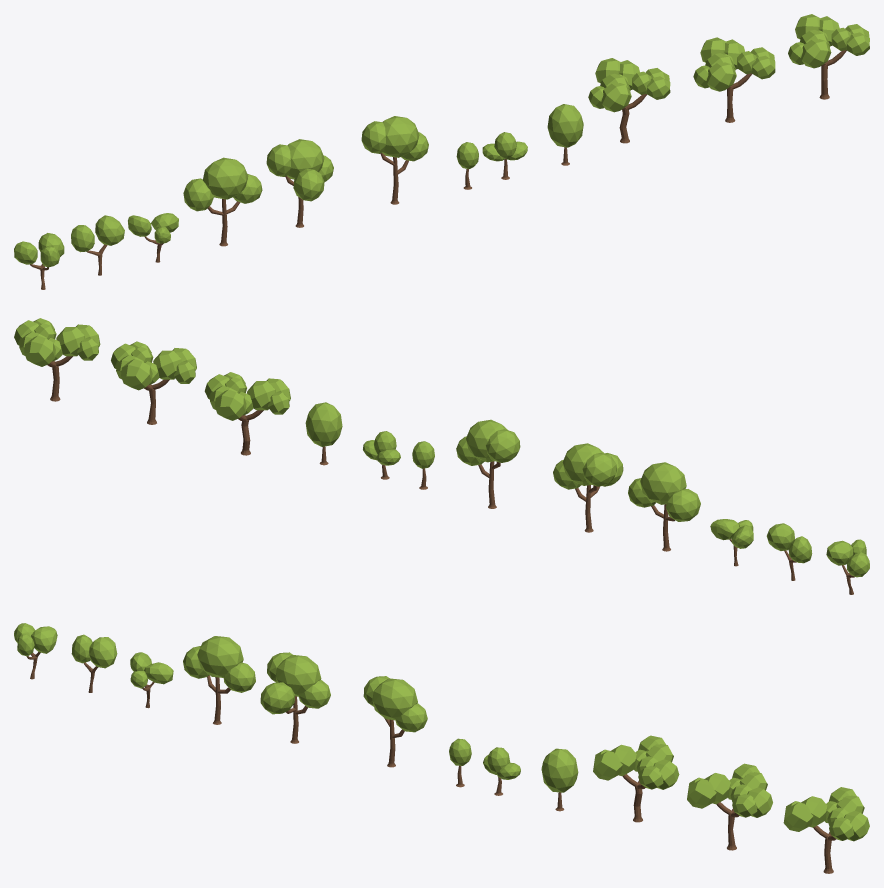
File: Trees.fbx
3 views of the same model, one above another, from view 1: azimuth 30°, elevation 25°; view 2: azimuth 150°, elevation 25°; view 3: azimuth 330°, elevation 25° (orthographic).
Visible parts, largest first — view 1: Tree_1_2, Tree_1_3, Tree_1_1, Tree_3_2, Tree_3_3, Tree_3_1, Tree_0_1, Tree_2_3, Tree_0_3, Tree_0_2, Tree_2_1, Tree_2_2; view 2: Tree_1_2, Tree_1_3, Tree_1_1, Tree_3_2, Tree_3_3, Tree_3_1, Tree_2_3, Tree_0_3, Tree_0_1, Tree_0_2, Tree_2_1, Tree_2_2; view 3: Tree_3_3, Tree_1_2, Tree_1_3, Tree_1_1, Tree_3_2, Tree_3_1, Tree_2_3, Tree_0_1, Tree_0_3, Tree_0_2, Tree_2_1, Tree_2_2.
Part boxes in pixels (x1,y1,x2,y2): Tree_1_2: (588, 58, 670, 143); Tree_1_3: (788, 14, 869, 99); Tree_1_1: (693, 37, 775, 122); Tree_3_2: (183, 157, 262, 246); Tree_3_3: (266, 139, 333, 227); Tree_3_1: (361, 116, 428, 204); Tree_0_1: (71, 215, 124, 275); Tree_2_3: (547, 104, 583, 165); Tree_0_3: (14, 233, 64, 289); Tree_0_2: (128, 213, 178, 262); Tree_2_1: (482, 132, 527, 179); Tree_2_2: (456, 142, 478, 189); Tree_1_2: (204, 372, 290, 455); Tree_1_3: (14, 318, 100, 401); Tree_1_1: (111, 341, 196, 424); Tree_3_2: (628, 462, 700, 551); Tree_3_3: (553, 443, 623, 532); Tree_3_1: (456, 419, 520, 508); Tree_2_3: (305, 402, 342, 465); Tree_0_3: (826, 539, 869, 594); Tree_0_1: (766, 523, 812, 580); Tree_0_2: (710, 519, 753, 566); Tree_2_1: (363, 431, 400, 479); Tree_2_2: (412, 441, 434, 489); Tree_3_3: (260, 652, 330, 743); Tree_1_2: (593, 735, 679, 822); Tree_1_3: (783, 787, 869, 873); Tree_1_1: (687, 763, 772, 850); Tree_3_2: (183, 636, 255, 724); Tree_3_1: (363, 676, 427, 767); Tree_2_3: (541, 748, 578, 811); Tree_0_1: (71, 634, 117, 692); Tree_0_3: (14, 623, 57, 679); Tree_0_2: (130, 652, 173, 708); Tree_2_1: (483, 747, 520, 795); Tree_2_2: (449, 738, 471, 787).
Bounding box in the file's own units: 8888 × 849 × 897.
